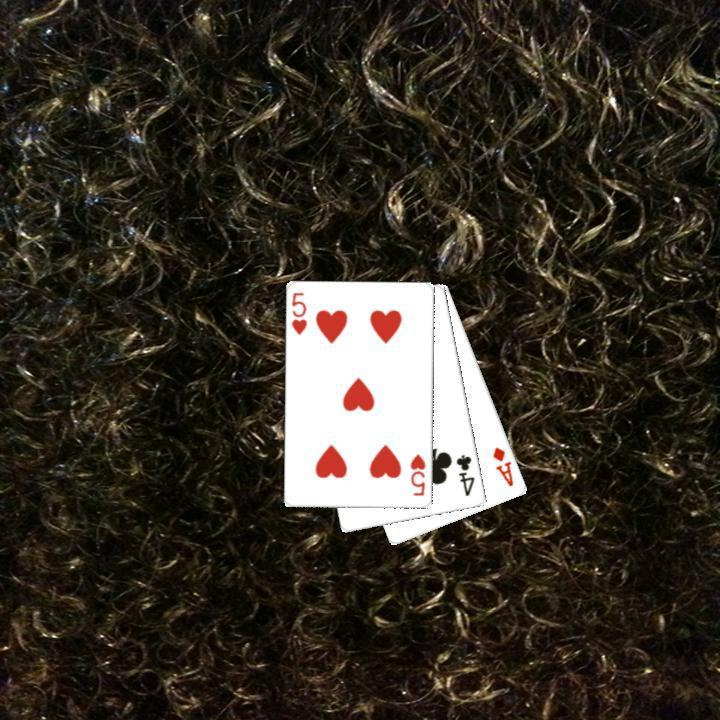4: (452, 450, 477, 498)
5: (288, 288, 309, 337), (407, 450, 428, 498)
A: (489, 443, 516, 489)
